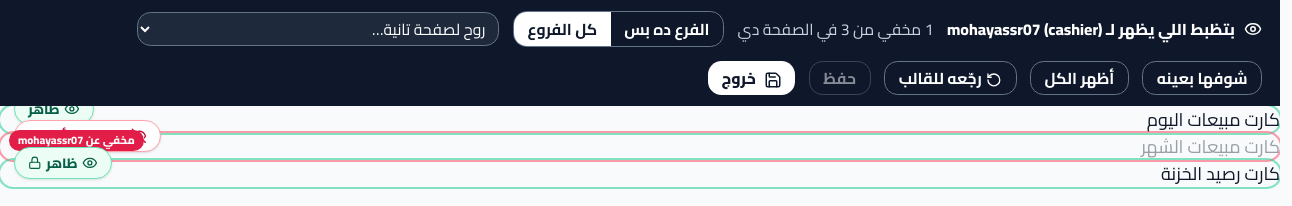
PermPart — customize on the page (owner) › «أظهر الكل» brings every card back
The width and height of the screenshot is (1292, 206).
Click the button "أظهر الكل" at (1079, 78), box x1=1030 y1=61 x2=1129 y2=95
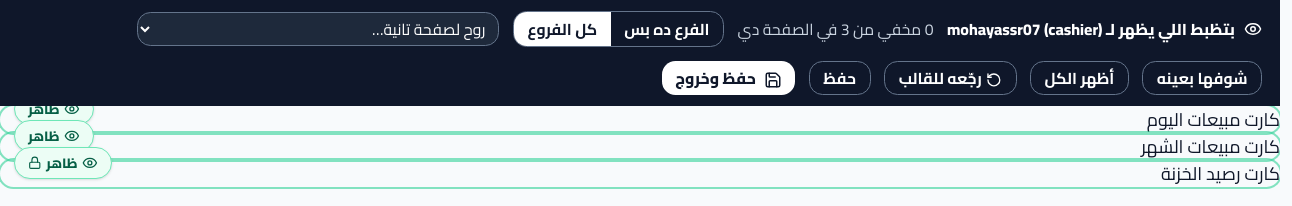
Check: the text "0 مخفي من 3 في الصفحة دي" is shown, box x1=738 y1=18 x2=933 y2=40
